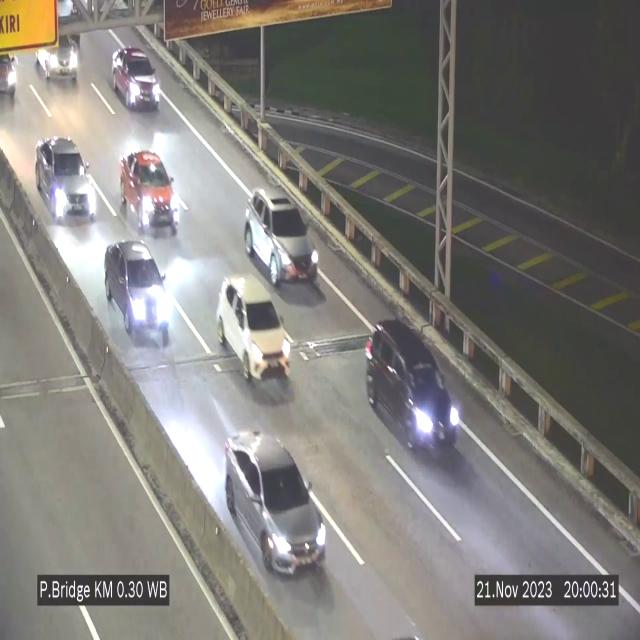Car: (225, 432, 327, 574), (364, 318, 462, 460), (244, 188, 320, 291), (103, 239, 173, 350), (217, 276, 290, 382), (121, 152, 182, 240), (36, 136, 96, 220), (34, 23, 88, 85), (111, 46, 160, 109), (0, 44, 24, 106)
